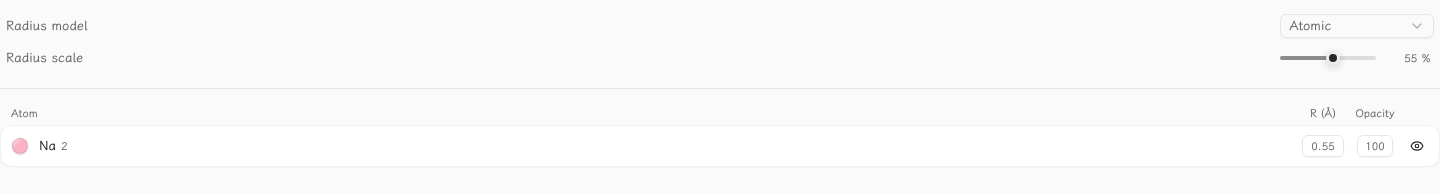
it: AtomsPanel › keeps global radius model and scale above the object controls
Check: the element showing "Radius model Atomic Radius scale %" is shown, box [0, 12, 1439, 72]
Check: the element named "Atom scale" holds "55", box [0, 44, 1439, 72]
Click the dropdown named "Radius model" at {"x": 1357, "y": 26}, box [1280, 14, 1434, 38]
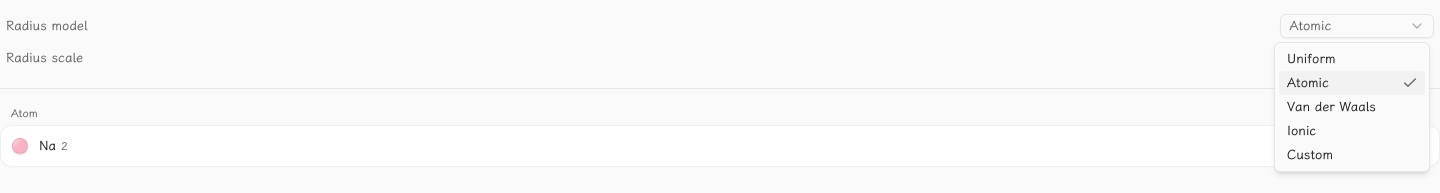
Click the option "Van der Waals" at {"x": 1331, "y": 107}, box [1287, 99, 1376, 114]
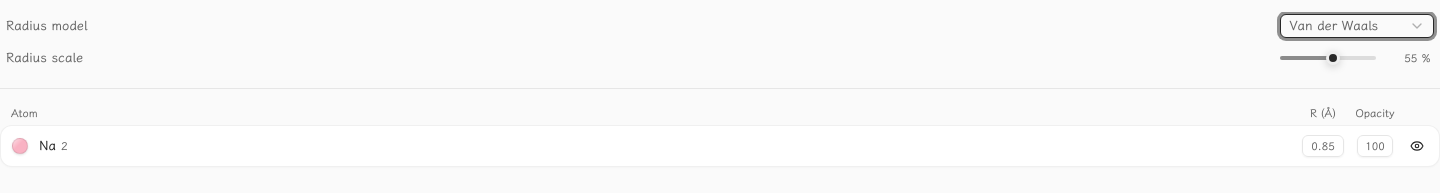
Check: the dropdown named "Radius model" reads "Van der Waals", box [1280, 14, 1434, 38]
Set the slider named "Atom scale" to "50" at {"x": 44, "y": 57}, box [0, 44, 1439, 72]
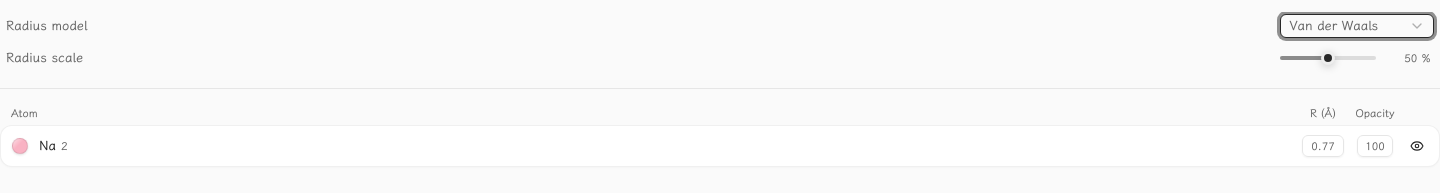
Check: the field named "Atom scale value" holds "50", box [1400, 48, 1422, 68]
Click the dropdown named "Radius model" at {"x": 1357, "y": 26}, box [1280, 14, 1434, 38]
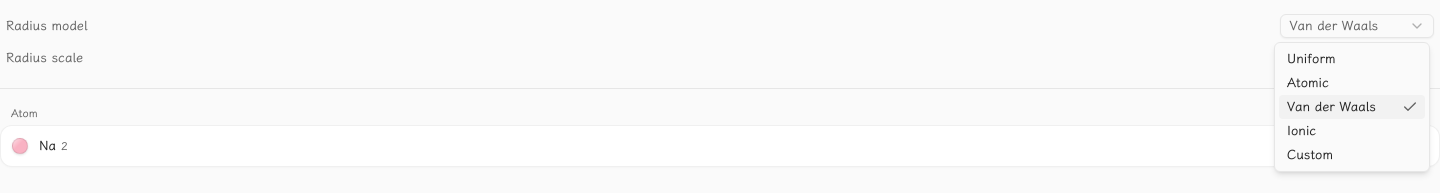
Click the option "Custom" at {"x": 1310, "y": 155}, box [1287, 147, 1333, 162]
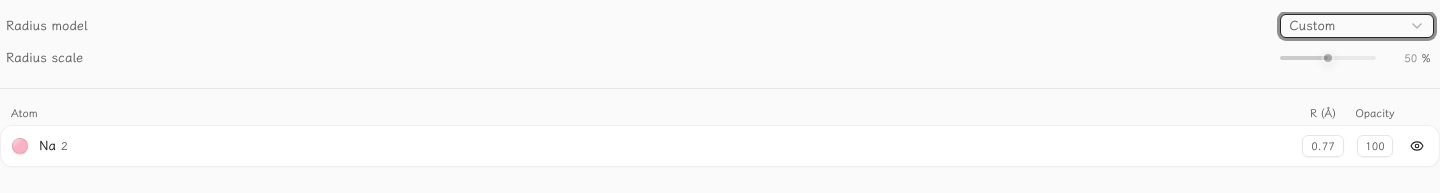
Check: the element named "Atom scale" is disabled, box [0, 44, 1439, 72]
Check: the field named "Atom scale value" is disabled, box [1400, 48, 1422, 68]
